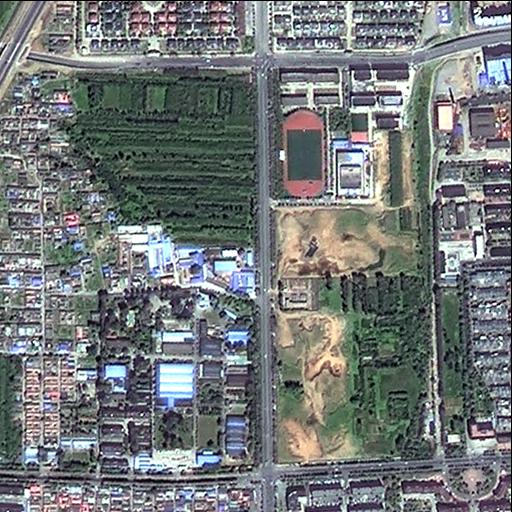school: (275, 62, 346, 203)
